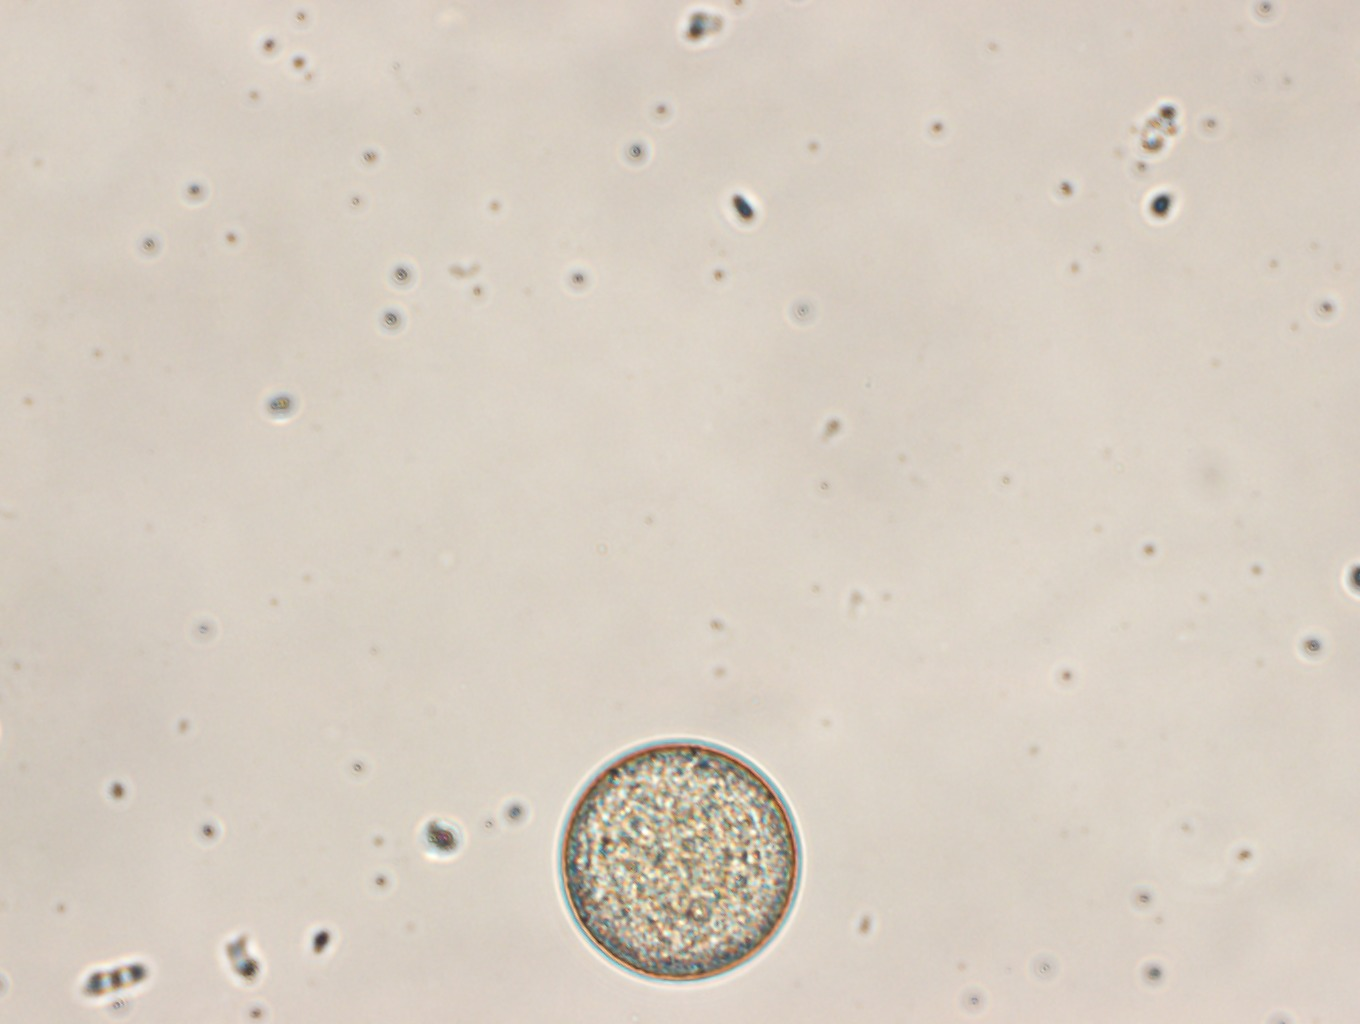coscinodiscus: (557, 736, 800, 983)
